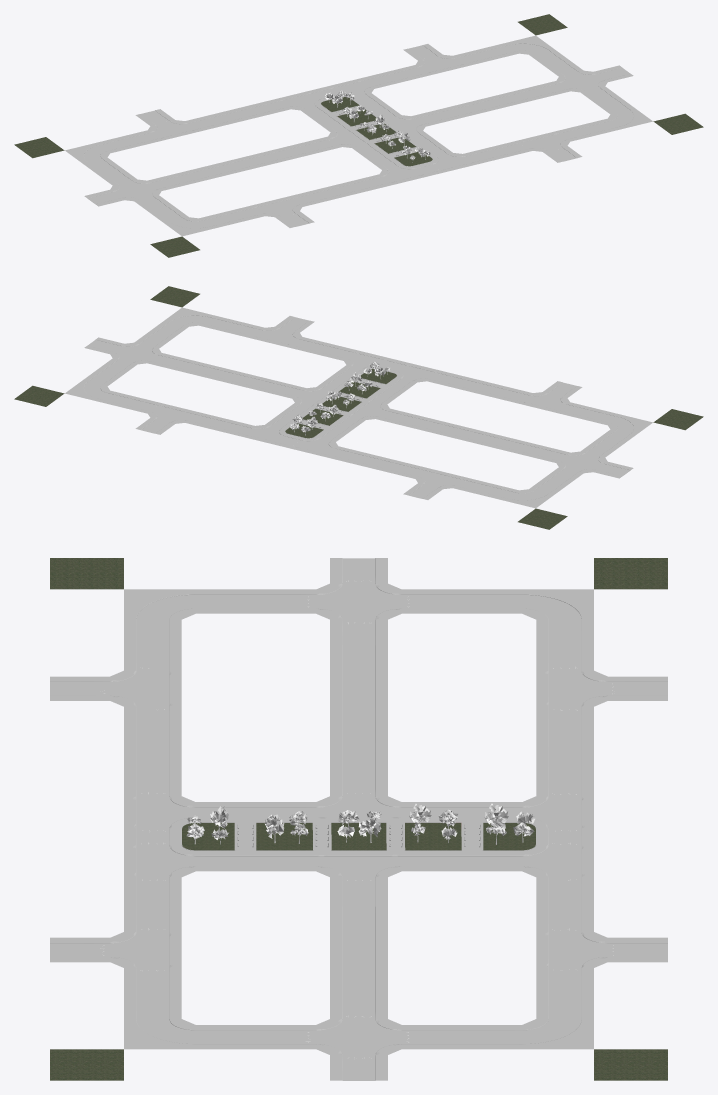
Rendered from Double-Block-05-b.fbx.
The picture shows the model from 3 angles, top to bottom: view 1: azimuth 30°, elevation 25°; view 2: azimuth 150°, elevation 25°; view 3: azimuth 270°, elevation 25°; orthographic projection. The views are drawn at different scales.
Visible parts, largest first — view 1: Double-Block-05-B, Double-Block-05, Double-Block-05-C, Double-Block-05-Sidewalk-B, Double-Block-05-Sidewalk-C, Double-Block-05-Sidewalk, Trees; view 2: Double-Block-05-B, Double-Block-05, Double-Block-05-C, Double-Block-05-Sidewalk-B, Double-Block-05-Sidewalk, Double-Block-05-Sidewalk-C, Trees; view 3: Double-Block-05-B, Double-Block-05, Double-Block-05-C, Double-Block-05-Sidewalk-B, Double-Block-05-Sidewalk, Double-Block-05-Sidewalk-C, Trees.
Boxes of the visible parts, <box> form: Double-Block-05-B: <box>232,73,503,194</box>; Double-Block-05: <box>14,110,342,257</box>; Double-Block-05-C: <box>393,14,703,161</box>; Double-Block-05-Sidewalk-B: <box>193,67,524,204</box>; Double-Block-05-Sidewalk-C: <box>403,35,652,162</box>; Double-Block-05-Sidewalk: <box>65,109,314,236</box>; Trees: <box>325,90,430,162</box>; Double-Block-05-B: <box>214,345,485,466</box>; Double-Block-05: <box>375,382,703,529</box>; Double-Block-05-C: <box>14,286,324,433</box>; Double-Block-05-Sidewalk-B: <box>193,339,524,476</box>; Double-Block-05-Sidewalk: <box>403,381,652,508</box>; Double-Block-05-Sidewalk-C: <box>65,307,314,434</box>; Trees: <box>289,362,390,435</box>; Double-Block-05-B: <box>135,749,582,906</box>; Double-Block-05: <box>50,558,667,749</box>; Double-Block-05-C: <box>50,906,667,1080</box>; Double-Block-05-Sidewalk-B: <box>124,715,593,923</box>; Double-Block-05-Sidewalk: <box>50,558,667,714</box>; Double-Block-05-Sidewalk-C: <box>50,924,667,1080</box>; Trees: <box>186,803,534,844</box>.
Size of what is drawn, in the model's own units: 600 by 14.25 by 300.
